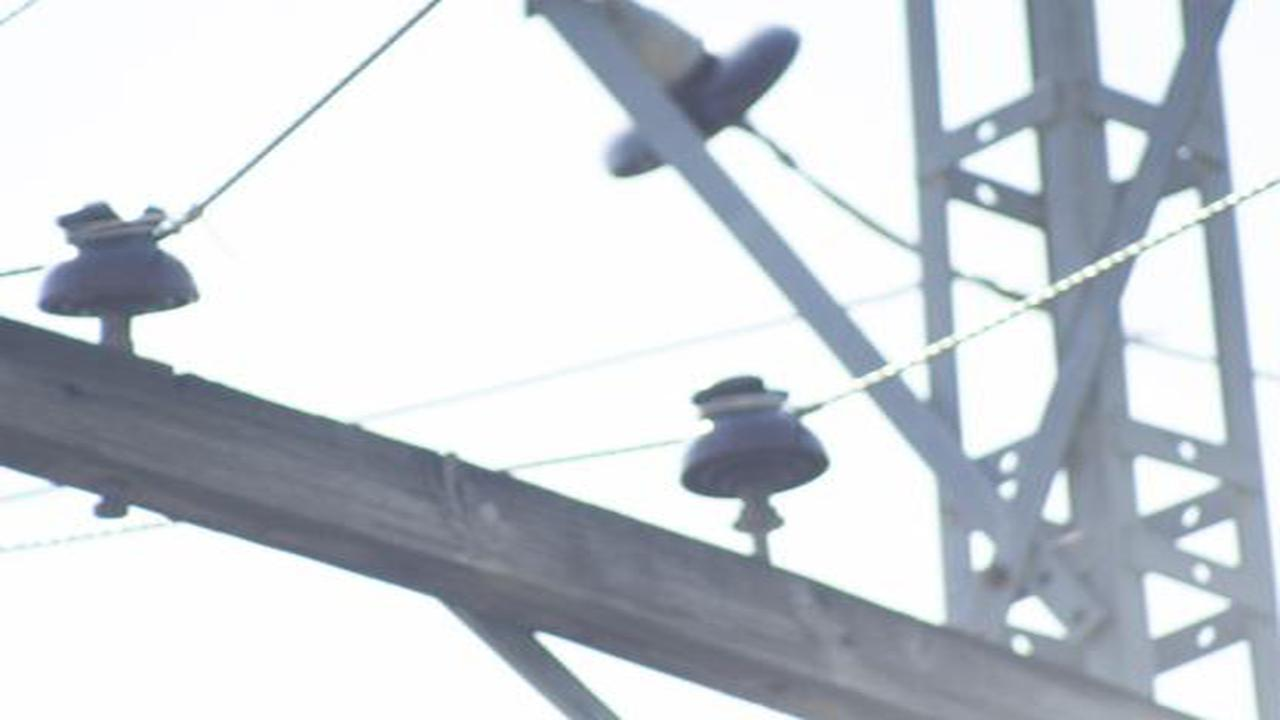insulator_pin: (29, 195, 209, 331), (676, 370, 839, 516)
